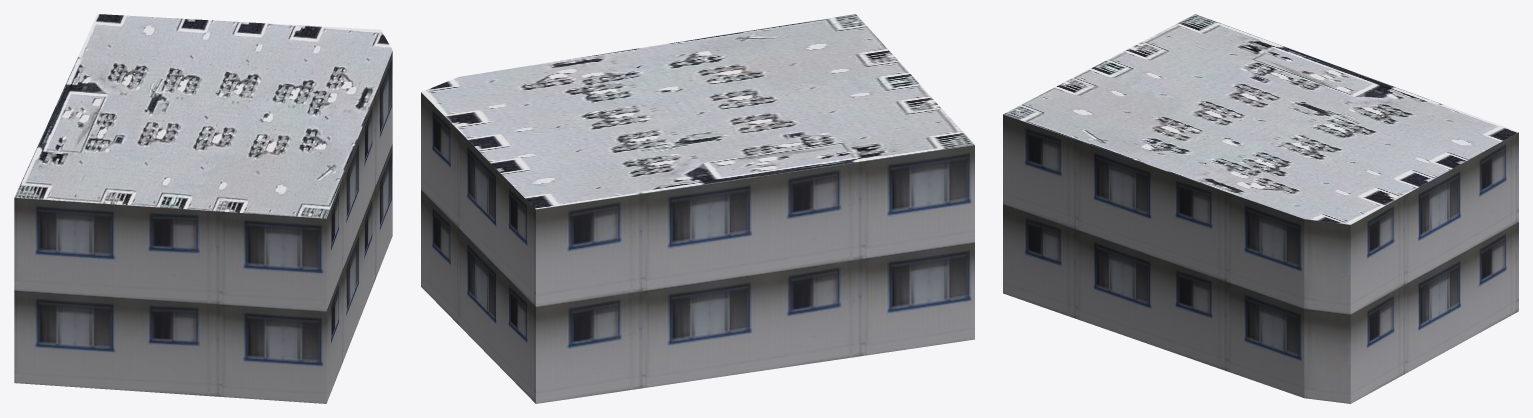
The model's file is ResTex__1342.fbx.
The picture shows the model from 3 angles, left to right: view 1: azimuth 30°, elevation 25°; view 2: azimuth 150°, elevation 25°; view 3: azimuth 270°, elevation 25°; orthographic projection. The views are drawn at different scales.
Parts seen in each view (by area): view 1: CityEngineMaterial_9_m, CityEngineMaterial_4_m; view 2: CityEngineMaterial_9_m, CityEngineMaterial_4_m; view 3: CityEngineMaterial_9_m, CityEngineMaterial_4_m.
Boxes of the visible parts, x1,y1,x2,y2 form: CityEngineMaterial_9_m: (14,51,392,403); CityEngineMaterial_4_m: (14,14,392,218); CityEngineMaterial_9_m: (421,92,974,403); CityEngineMaterial_4_m: (421,14,974,209); CityEngineMaterial_9_m: (1003,114,1518,403); CityEngineMaterial_4_m: (1003,14,1518,224).
Bounding box in the file's own units: 15.14 × 6 × 15.66.
2 materials, 2 textured.
